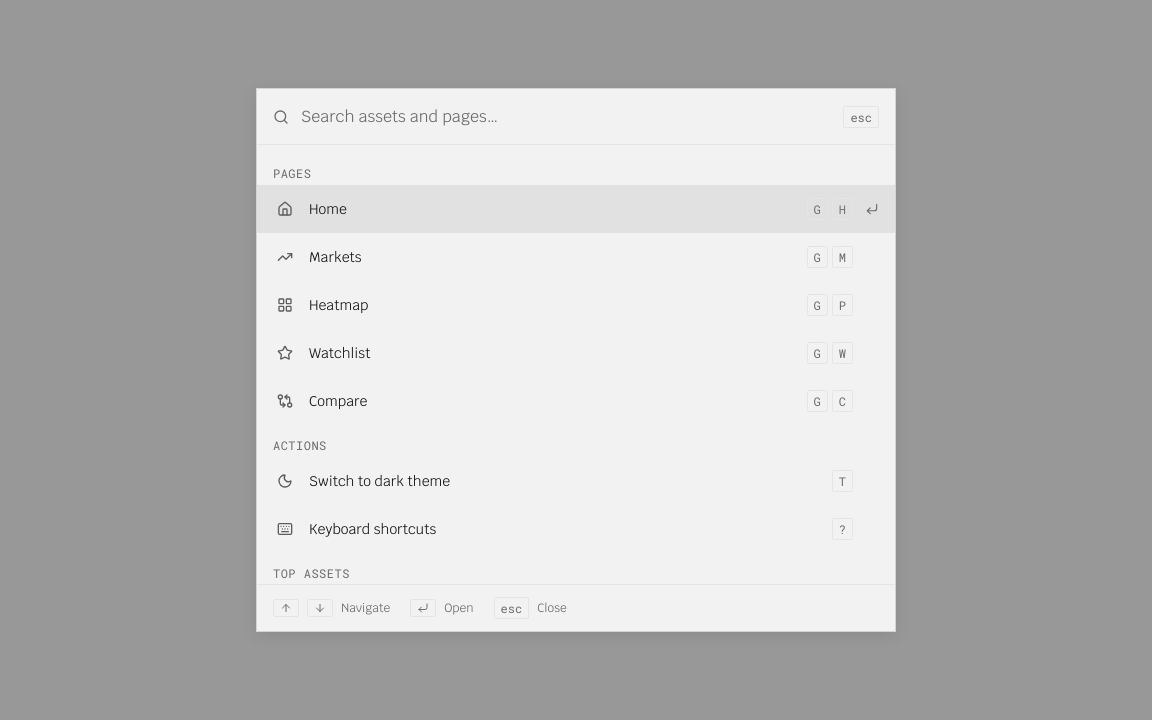
Test: CommandPalette: accessibility › says when there are none
Type "zzzz" into the dropdown labelled "Search assets and pages". click: (566, 116)
box: [301,89,831,144]
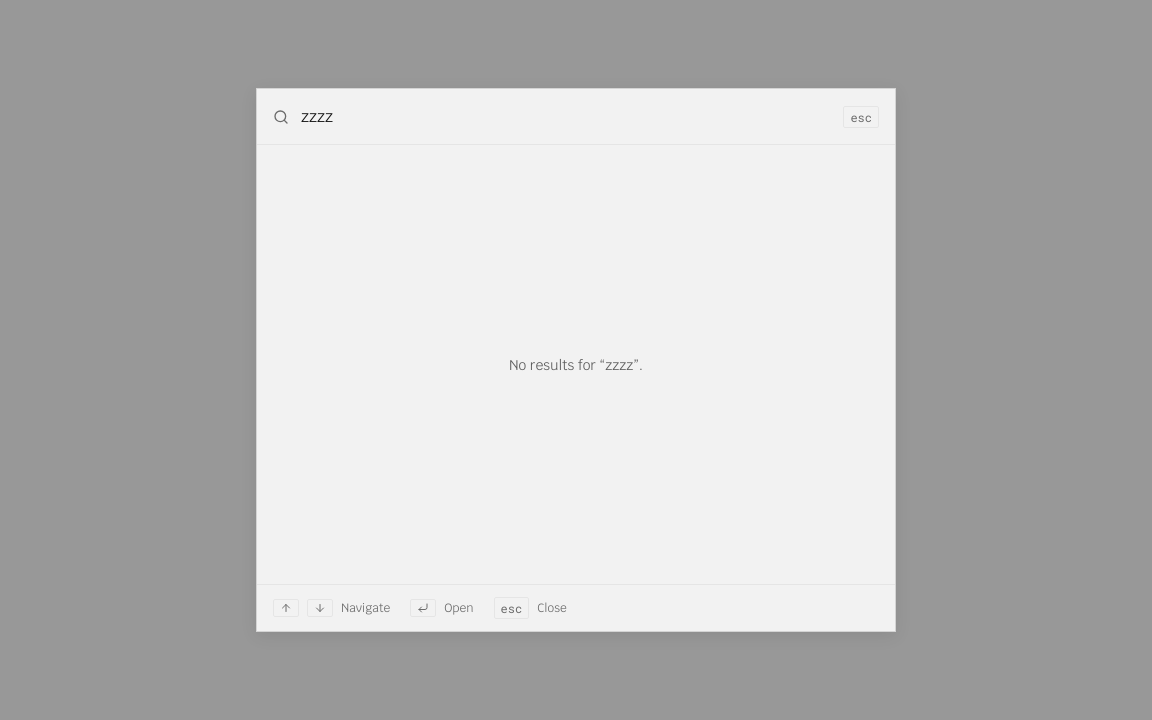
Expected: the text "No results for “zzzz”." is shown, [509,356,643,374]
Expected: the option is gone
